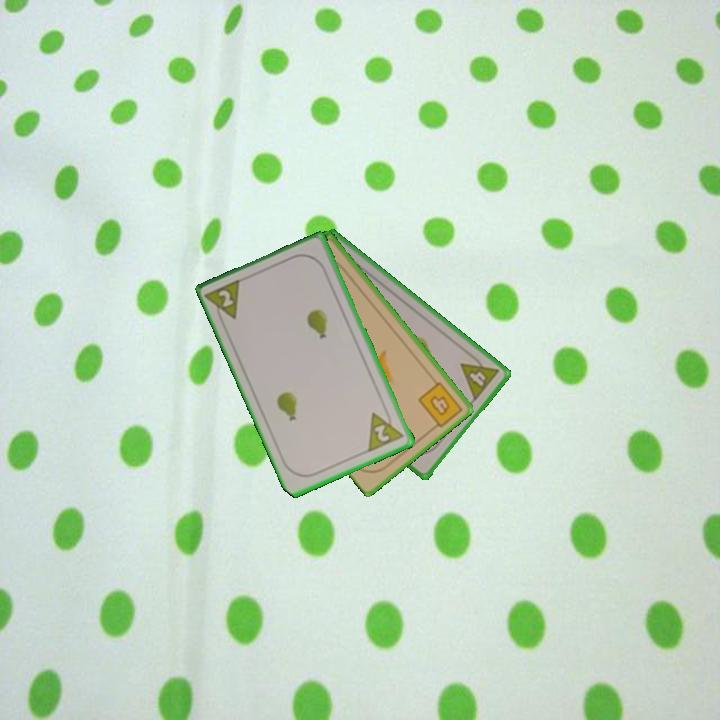2p: (203, 275, 245, 327), (365, 404, 407, 455)
4b: (415, 378, 465, 433)
4p: (457, 349, 502, 404)
